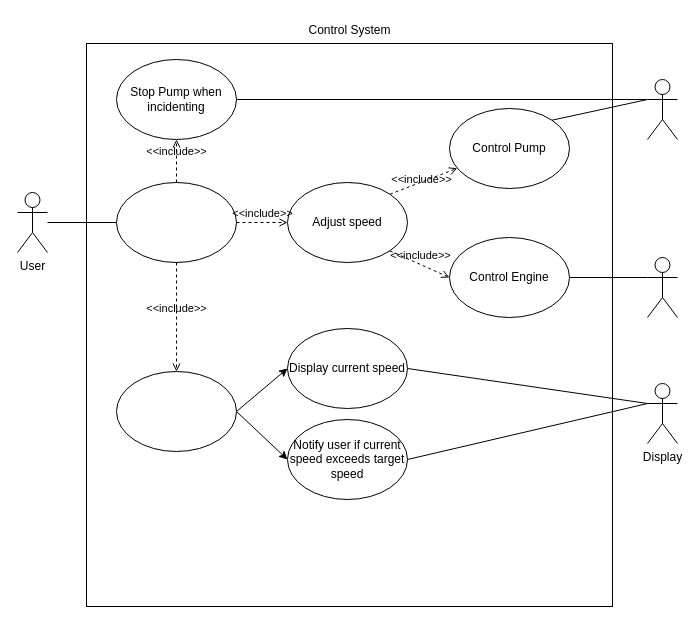
Image size: 699x624. Some labels were removed from this diagram. Each missing label, with the centre of its shape:
"Engine" goes at point (662, 287).
"Monitor" goes at point (176, 411).
"On/Off" goes at point (176, 222).
"Pump" goes at point (662, 109).
